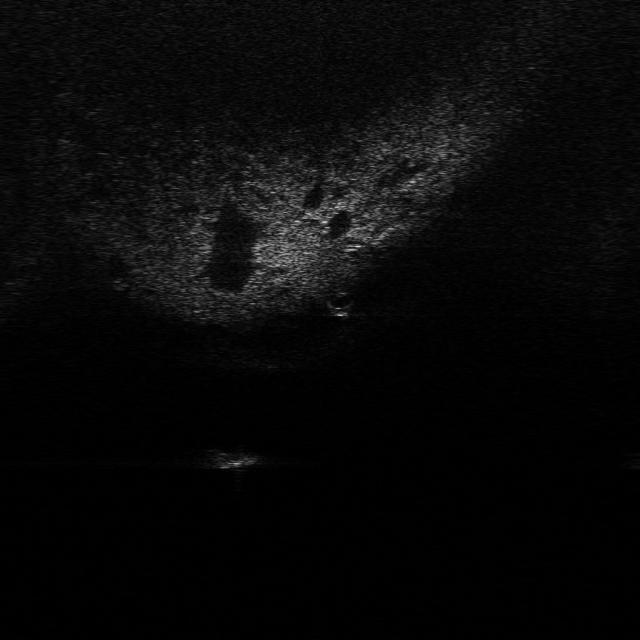ball: (319, 284, 357, 312)
cube: (200, 446, 264, 470)
